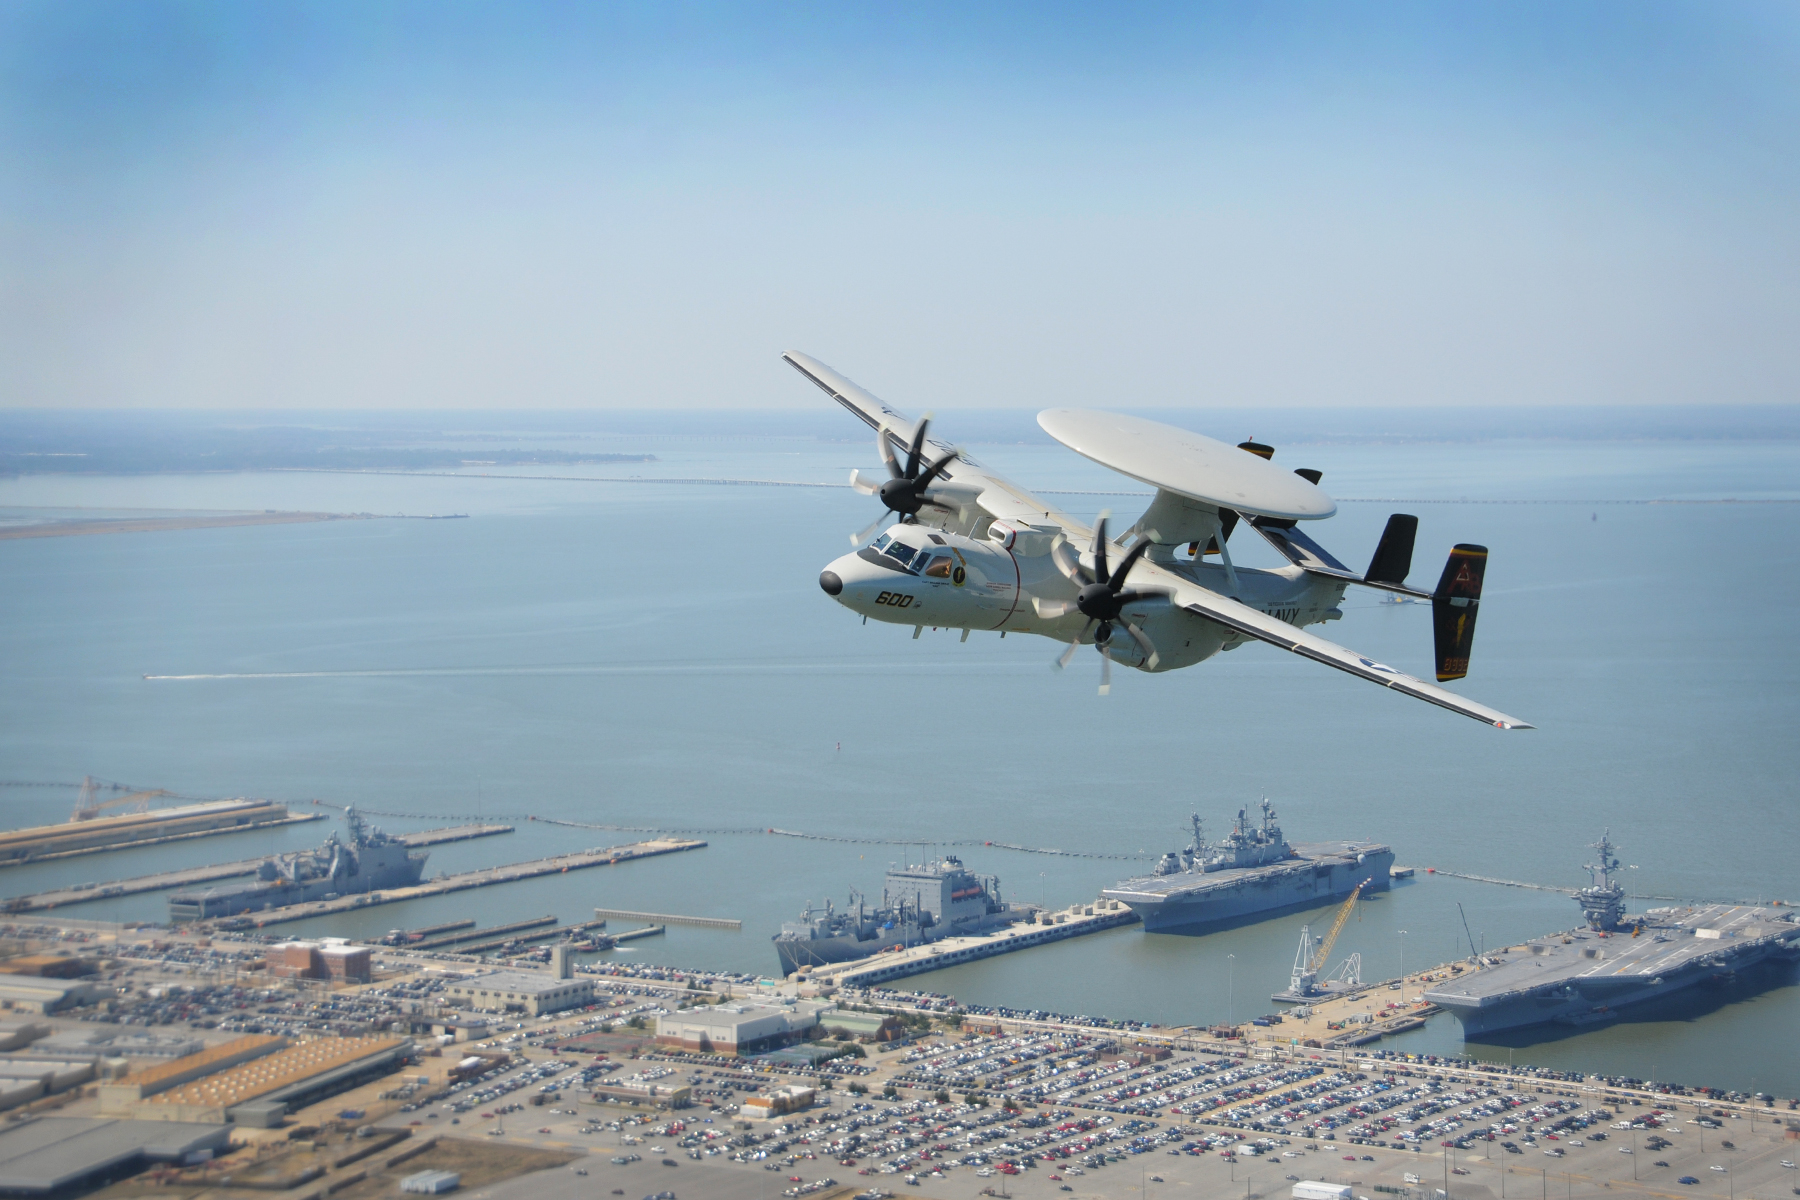E2: (779, 350, 1537, 730)
